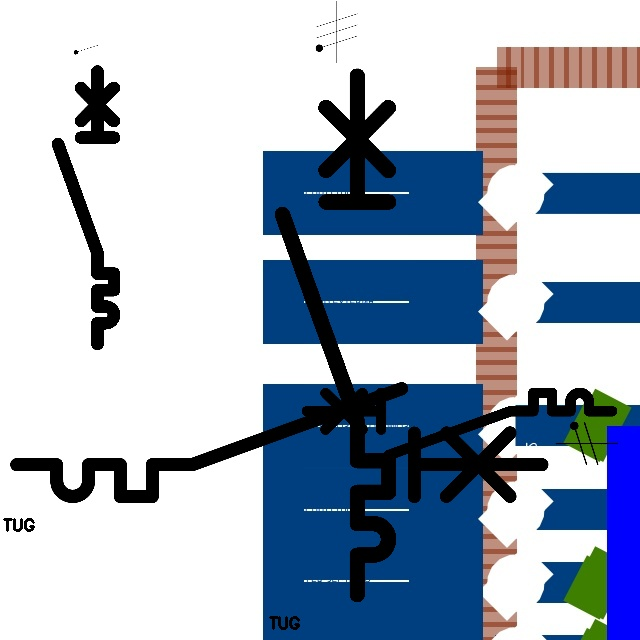interruptor_termomagnetico: (3, 375, 555, 510), (269, 62, 402, 608), (299, 385, 620, 463), (51, 64, 121, 350)
